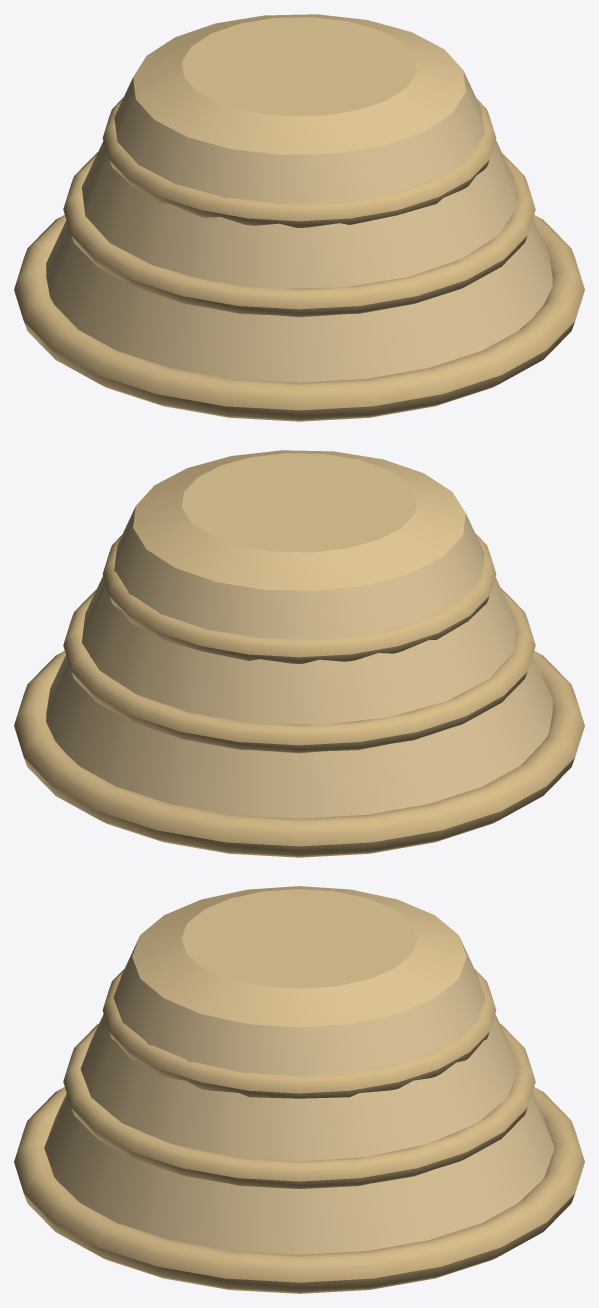
The model's file is khien.glb.
3 views of the same model, one above another, from view 1: azimuth 30°, elevation 25°; view 2: azimuth 150°, elevation 25°; view 3: azimuth 270°, elevation 25° (orthographic).
Parts seen in each view (by area): view 1: Cyl1, Cyl2, Tor1, Tor2, Tor3; view 2: Cyl1, Cyl2, Tor1, Tor2, Tor3; view 3: Cyl1, Cyl2, Tor1, Tor2, Tor3.
Boxes of the visible parts, x1,y1,x2,y2 form: Cyl1: (46,71,552,382); Cyl2: (133,14,465,154); Tor1: (14,215,584,421); Tor2: (63,152,535,317); Tor3: (102,97,496,227); Cyl1: (46,507,552,818); Cyl2: (133,450,465,590); Tor1: (14,651,584,857); Tor2: (63,588,535,753); Tor3: (102,533,496,663); Cyl1: (44,936,554,1254); Cyl2: (132,886,466,1027); Tor1: (14,1087,584,1293); Tor2: (63,1024,535,1188); Tor3: (102,969,496,1098).
Bounding box in the file's own units: 0.58 × 0.269 × 0.58.
